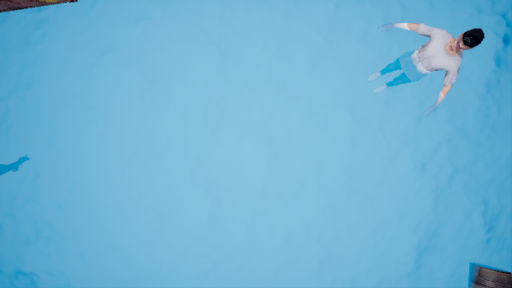person: (369, 13, 483, 126)
